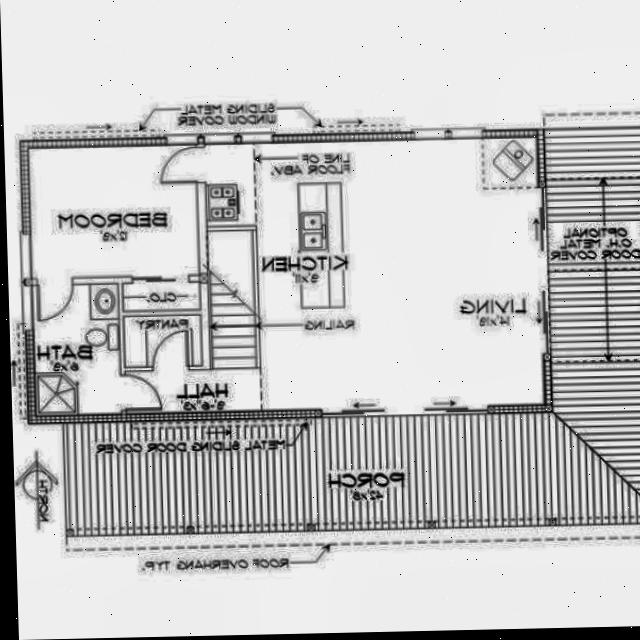room: (256, 137, 544, 411), (29, 144, 201, 314), (34, 283, 122, 416), (206, 143, 258, 367), (126, 368, 260, 413), (124, 316, 202, 367)
